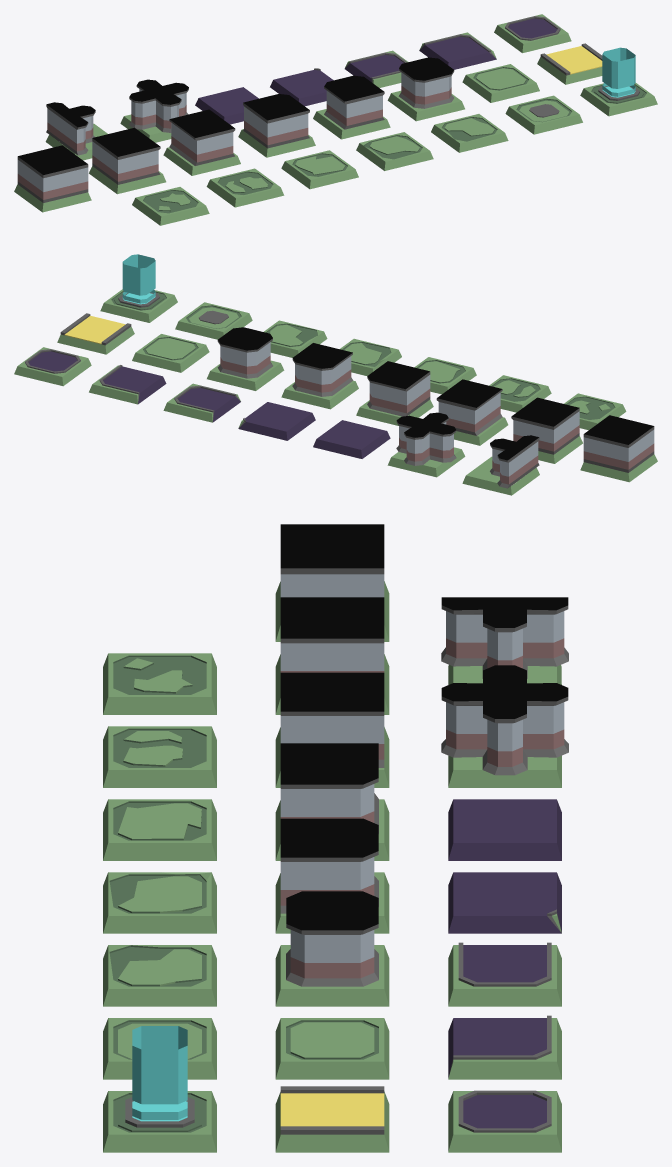
Rendered from tiles.glb.
3 renders of one model, top to bottom at view 1: azimuth 30°, elevation 25°; view 2: azimuth 150°, elevation 25°; view 3: azimuth 270°, elevation 25°, orthographic. The views are drawn at different scales.
Parts seen in each view (by area): view 1: Tile.Wall.F, Tile.Wall.T, Tile.Wall.I, Tile.Wall.L, Tile.Wall.P, Tile.Wall, Tile.TP, Tile.Wall.001, Tile.Wall.002, Tile.Variant.04, Tile.Variant.03, Tile.Slow O (+10 smaller); view 2: Tile.Wall.F, Tile.Wall.P, Tile.Wall.L, Tile.Wall.001, Tile.Wall.I, Tile.Wall, Tile.Wall.T, Tile.Wall.002, Tile.TP, Tile.Dash, Tile.Slow.LB, Tile.Slow.F (+10 smaller); view 3: Tile.Wall.001, Tile.Wall, Tile.TP, Tile.Wall.002, Tile.Wall.T, Tile.Wall.P, Tile.Wall.L, Tile.Wall.I, Tile.Wall.F, Tile.Dash, Tile.Slow O, Tile.Basic (+10 smaller).
Boxes of the visible parts, x1,y1,x2,y2 form: Tile.Wall.F: (14,145,91,212); Tile.Wall.T: (89,127,166,194); Tile.Wall.I: (163,109,240,175); Tile.Wall.L: (238,94,315,157); Tile.Wall.P: (313,75,390,139); Tile.Wall: (387,57,464,121); Tile.TP: (580,47,657,116); Tile.Wall.001: (120,79,188,142); Tile.Wall.002: (45,102,107,160); Tile.Variant.04: (206,168,284,207); Tile.Variant.03: (281,150,358,189); Tile.Slow O: (494,14,571,53); Tile.Wall.F: (580,415,657,482); Tile.Wall.P: (281,343,358,409); Tile.Wall.L: (356,361,433,425); Tile.Wall.001: (387,412,465,477); Tile.Wall.I: (436,379,508,445); Tile.Wall: (207,327,284,390); Tile.Wall.T: (511,397,582,463); Tile.Wall.002: (462,435,539,495); Tile.TP: (100,254,177,322); Tile.Dash: (57,313,134,354); Tile.Slow.LB: (89,365,166,404); Tile.Slow.F: (313,420,390,458); Tile.Wall.001: (441,665,568,787); Tile.Wall: (275,891,389,1006); Tile.TP: (103,1026,216,1152); Tile.Wall.002: (441,597,568,684); Tile.Wall.T: (275,597,389,714); Tile.Wall.P: (275,818,389,933); Tile.Wall.L: (275,743,389,860); Tile.Wall.I: (275,672,389,787); Tile.Wall.F: (275,524,389,641); Tile.Dash: (275,1086,389,1152); Tile.Slow O: (448,1090,561,1152); Tile.Basic: (275,1018,389,1079).
Bounding box in the file's own units: 76.6 × 5.8 × 27.
